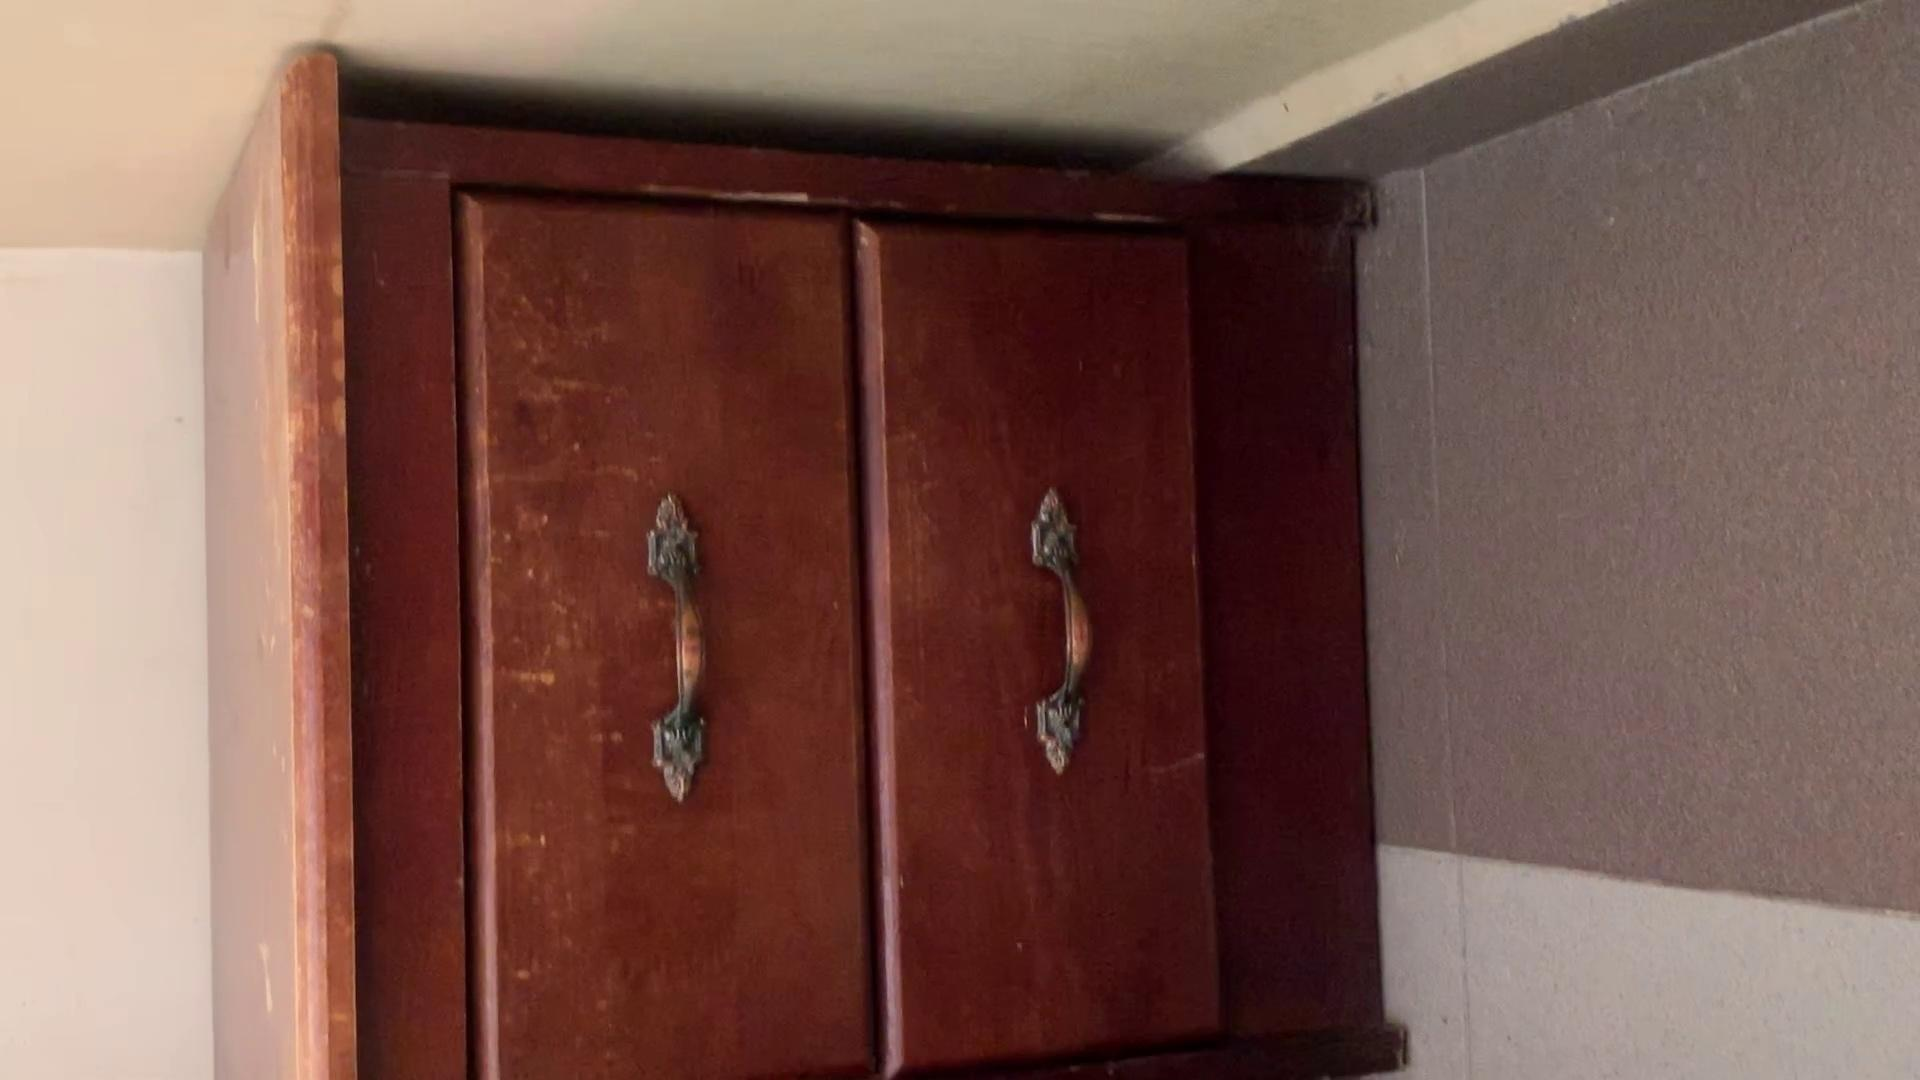cabinet_door: (462, 202, 872, 1080), (873, 210, 1208, 1073)
handle: (628, 491, 727, 806), (1017, 481, 1108, 786)
